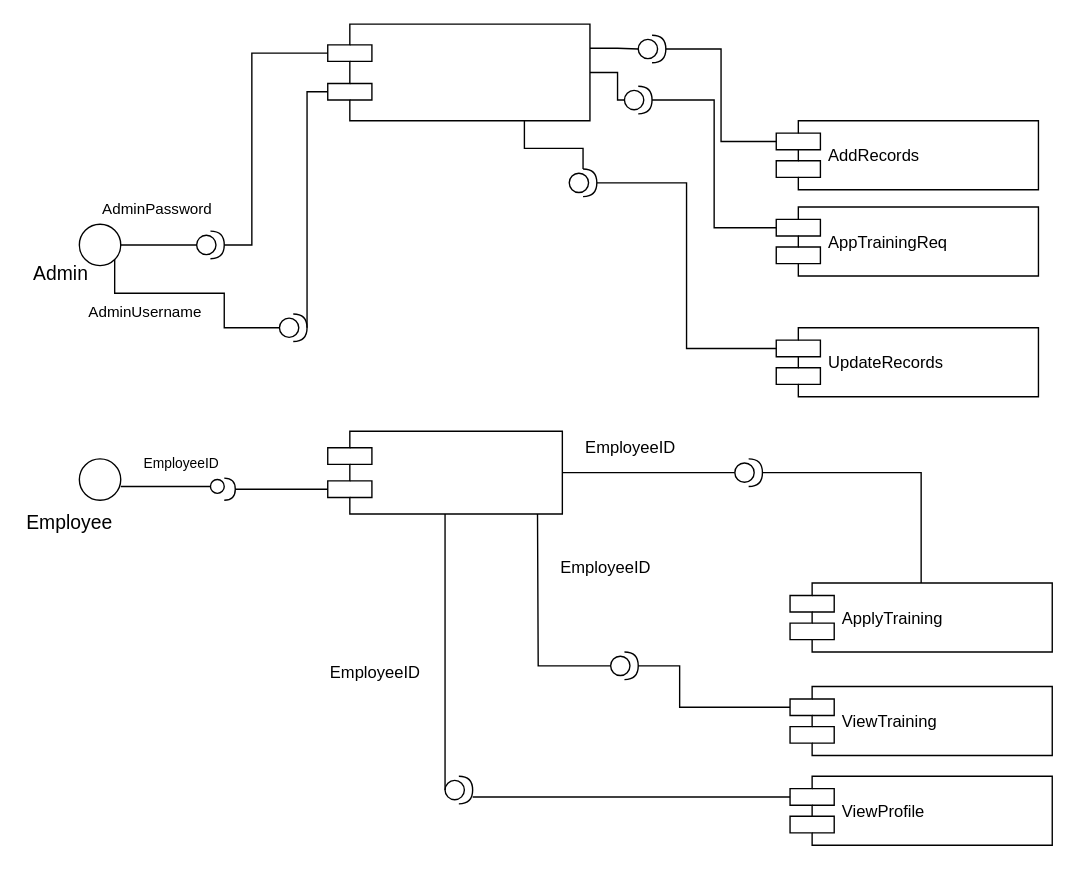
Image size: 1076x869. Some labels were removed from this diagram. The shapes that lost their labels are listed below. From the top down, each one's centre as x and y in pixels, then its label:
point 458,72: AdminLogin
point 444,472: EmployeeLogin
